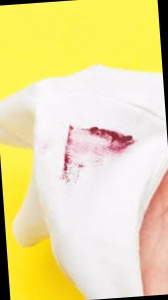lipstick: (56, 120, 94, 186), (81, 121, 135, 160)
